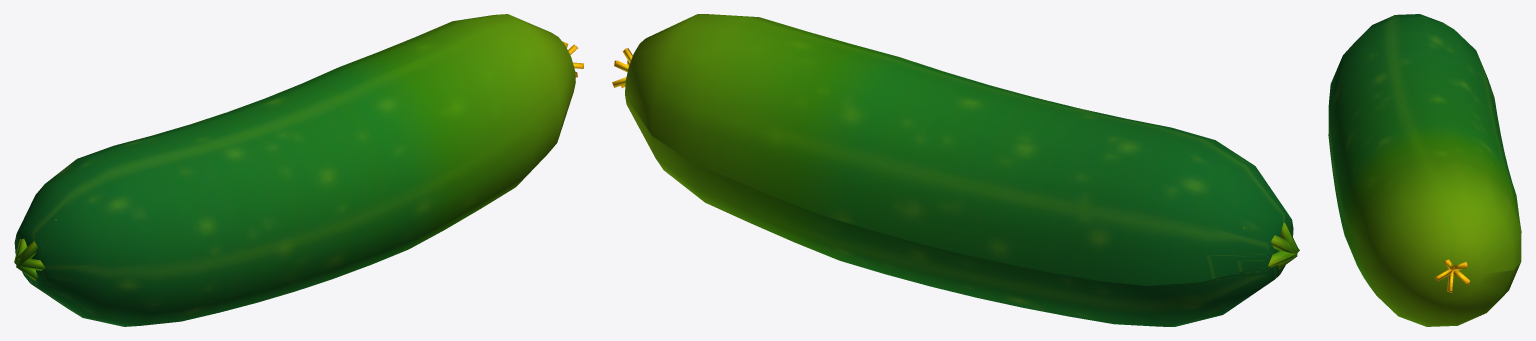
File: NP_Cucumber_Harvest.fbx
3 renders of one model, left to right at view 1: azimuth 30°, elevation 25°; view 2: azimuth 150°, elevation 25°; view 3: azimuth 270°, elevation 25°, orthographic. The views are drawn at different scales.
Parts seen in each view (by area): view 1: NP_Cucumber_Harvest; view 2: NP_Cucumber_Harvest; view 3: NP_Cucumber_Harvest.
Part boxes in pixels (left/top/right/bottom): NP_Cucumber_Harvest: left=14, top=14, right=583, bottom=326; NP_Cucumber_Harvest: left=612, top=14, right=1299, bottom=326; NP_Cucumber_Harvest: left=1328, top=14, right=1521, bottom=326.
Size of the model in its own units: 41.35 by 13.22 by 12.55.
